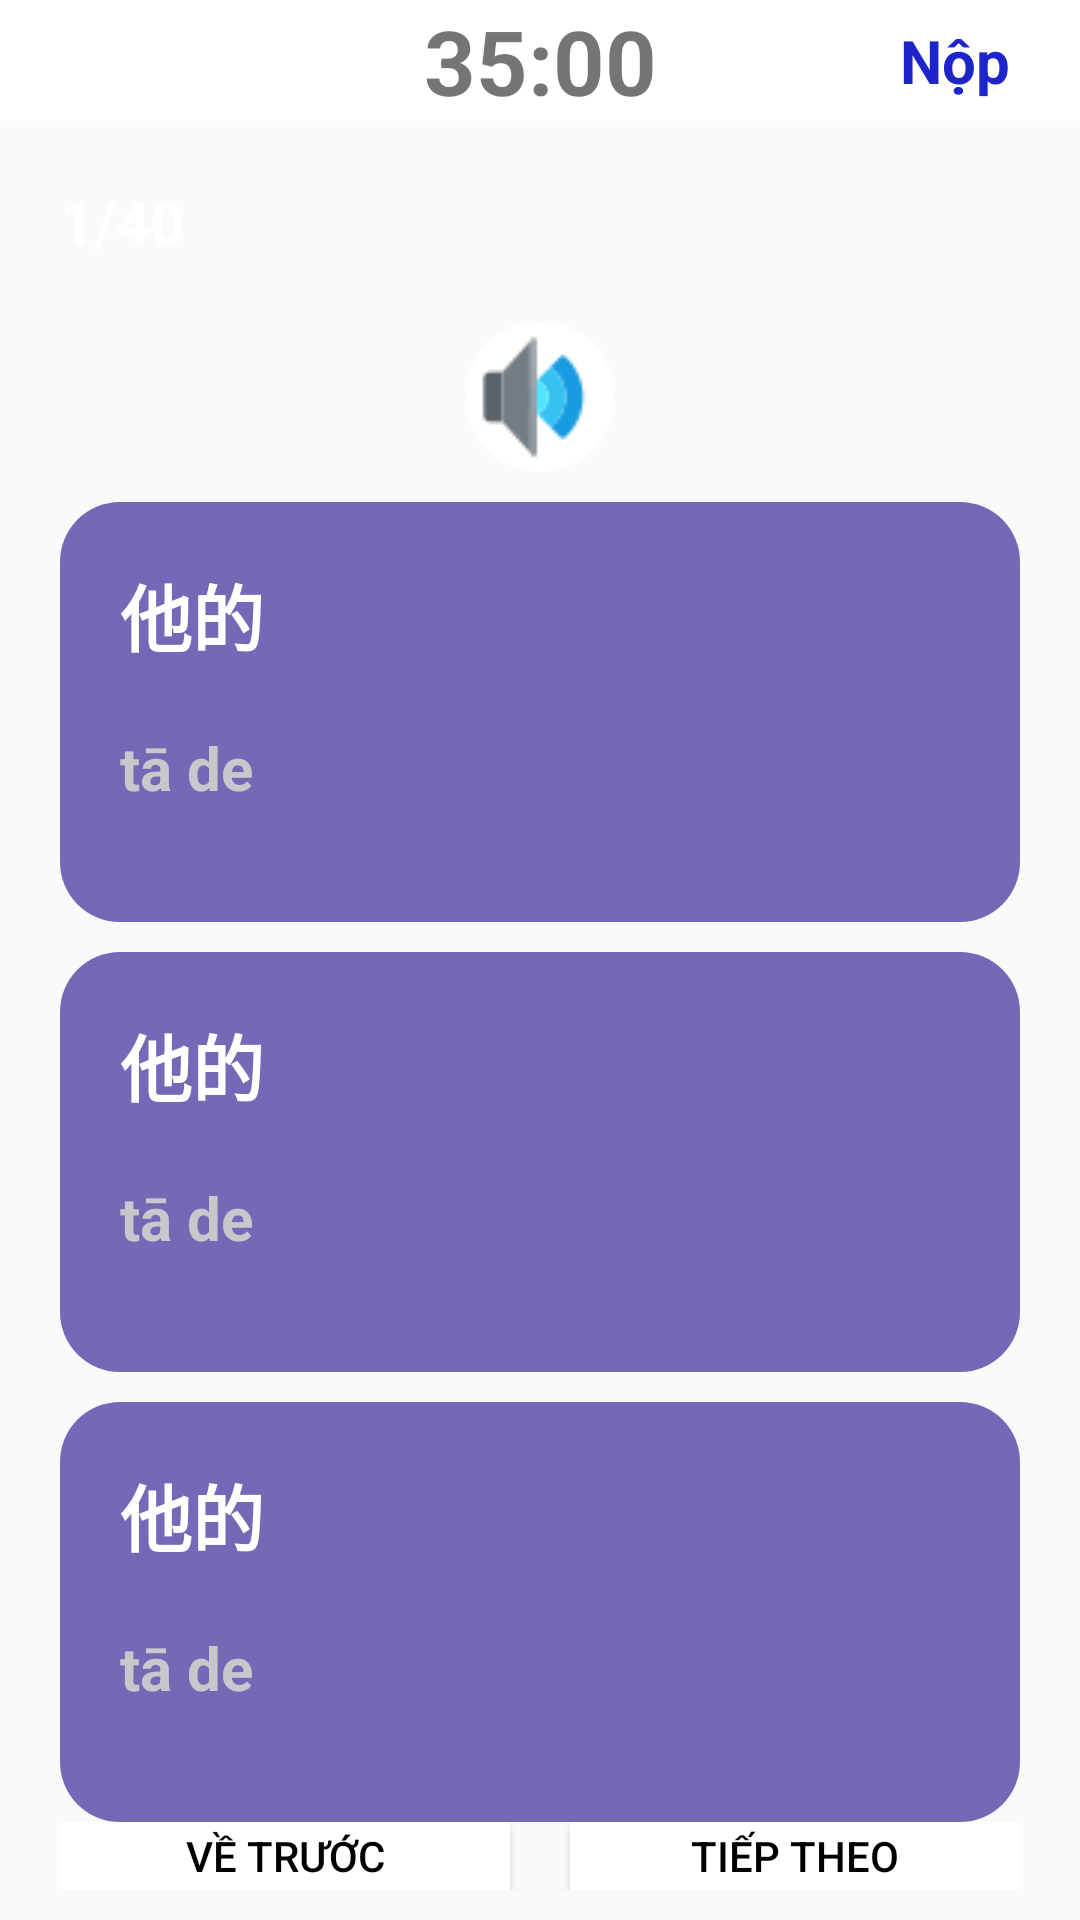

Icon bounding boxes for this 1080px×1920px phone screenshot, format bbox=[x1, y1, x2, y2]:
speaker hsk: bbox=[482, 337, 585, 457]
